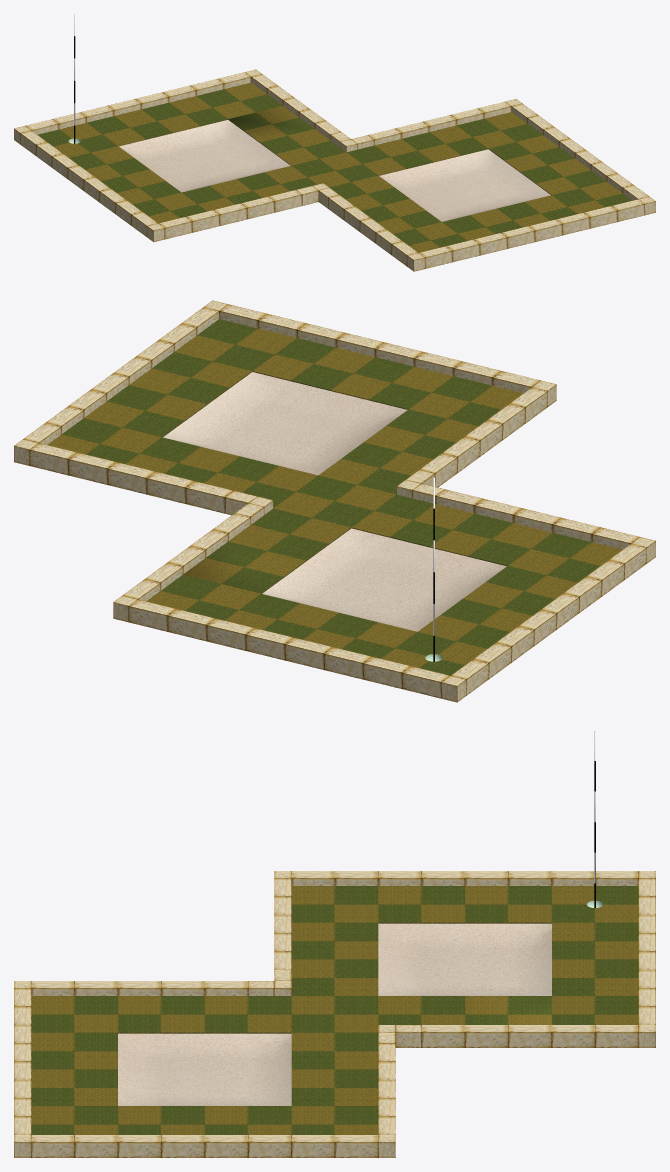
3 renders of one model, top to bottom at view 1: azimuth 30°, elevation 25°; view 2: azimuth 150°, elevation 25°; view 3: azimuth 270°, elevation 25°, orthographic. The views are drawn at different scales.
Visible parts, largest first — view 1: grassland, bunker, barrier2, barrier1, square; view 2: grassland, bunker, barrier2, barrier1, square; view 3: grassland, bunker, barrier1, barrier2, square.
Part boxes in pixels (x1=…): grassland: x1=37, y1=82, x2=632, y2=252; bunker: x1=119, y1=120, x2=550, y2=221; barrier2: x1=25, y1=72, x2=644, y2=268; barrier1: x1=20, y1=74, x2=649, y2=266; square: x1=14, y1=69, x2=655, y2=271; grassland: x1=47, y1=319, x2=622, y2=675; bunker: x1=163, y1=372, x2=506, y2=631; barrier2: x1=29, y1=304, x2=639, y2=698; barrier1: x1=23, y1=307, x2=646, y2=695; square: x1=14, y1=300, x2=655, y2=702; grassland: x1=31, y1=886, x2=638, y2=1134; bunker: x1=118, y1=923, x2=551, y2=1105; barrier1: x1=31, y1=871, x2=638, y2=1157; barrier2: x1=14, y1=878, x2=655, y2=1134; square: x1=14, y1=871, x2=655, y2=1157.
Bounding box in the file's own units: 74 × 23 × 74.
6 materials, 5 textured.
